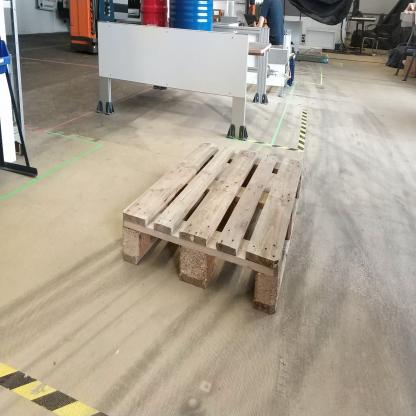BoxFace: (118, 137, 306, 326)
